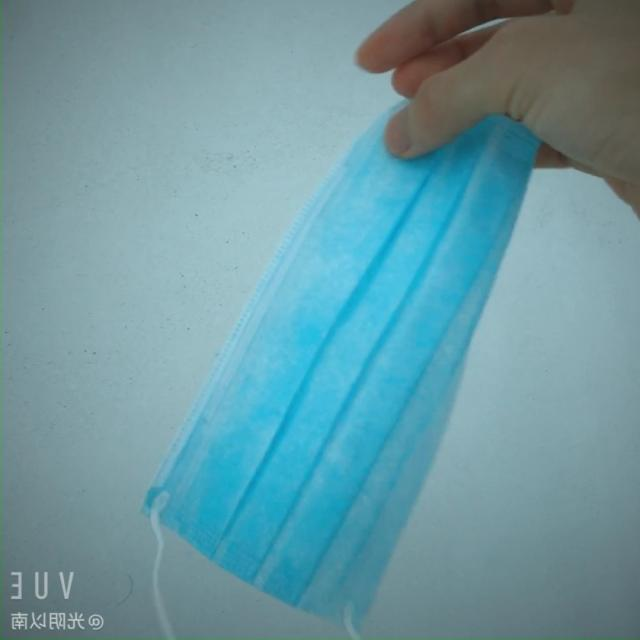face mask: (178, 84, 570, 566)
